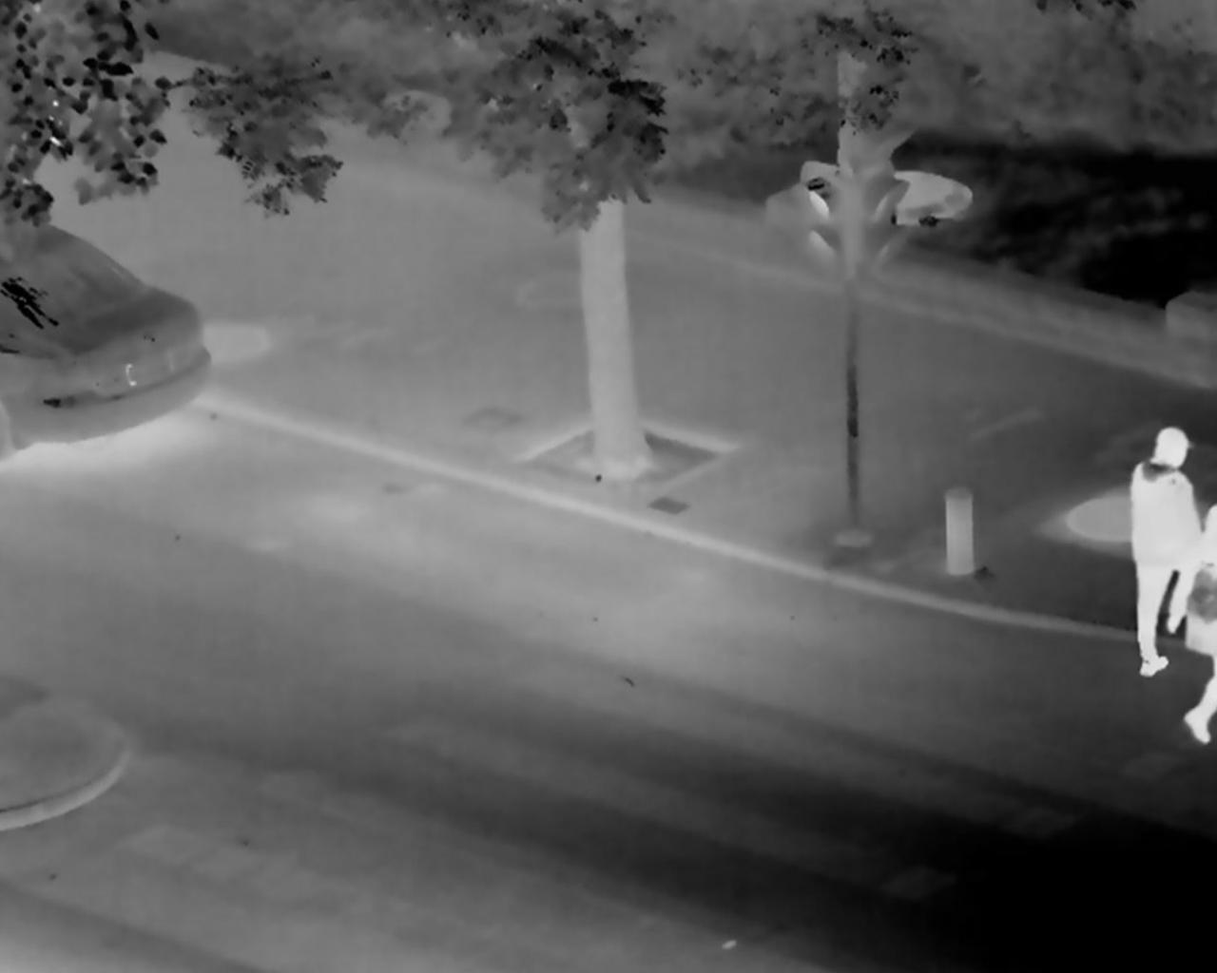person: (1111, 426, 1196, 676), (1188, 500, 1216, 748)
